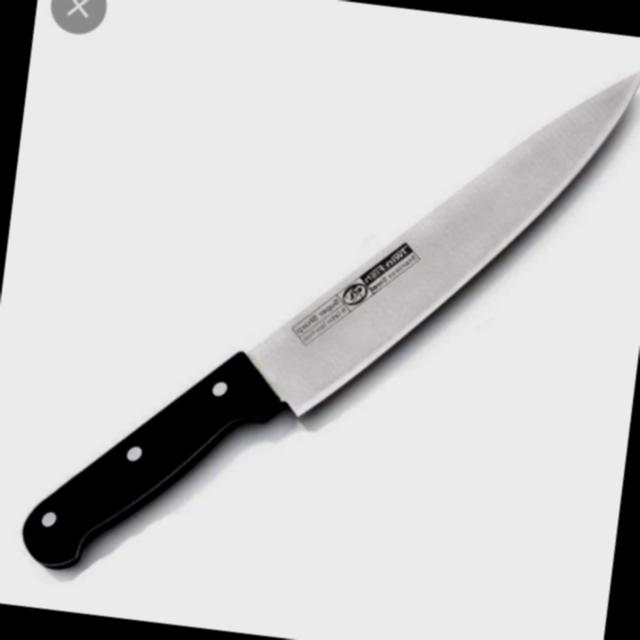knife: (17, 0, 640, 635)
